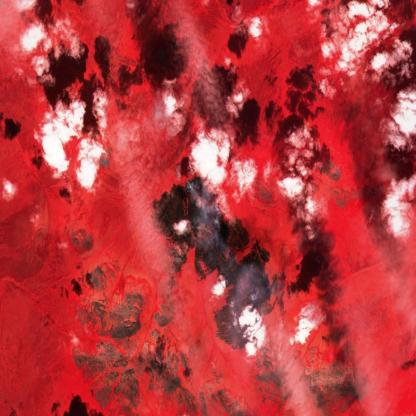fire: (181, 172, 204, 198)
